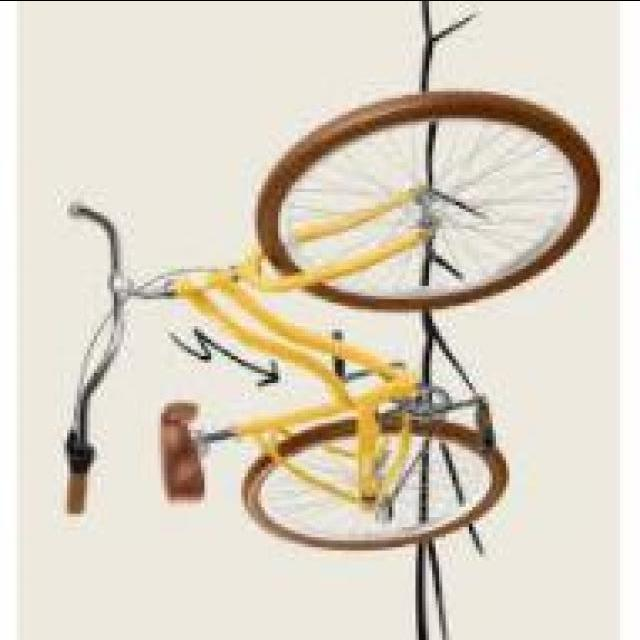bicycle: (38, 88, 618, 557)
